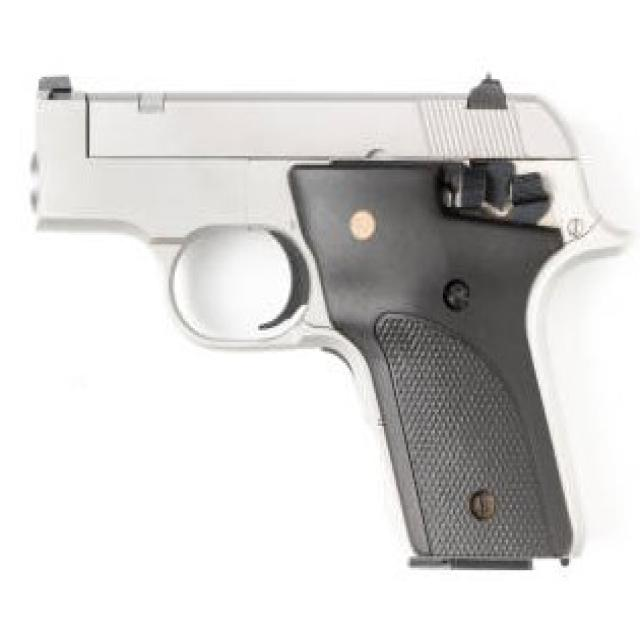pistol: (13, 61, 636, 583)
